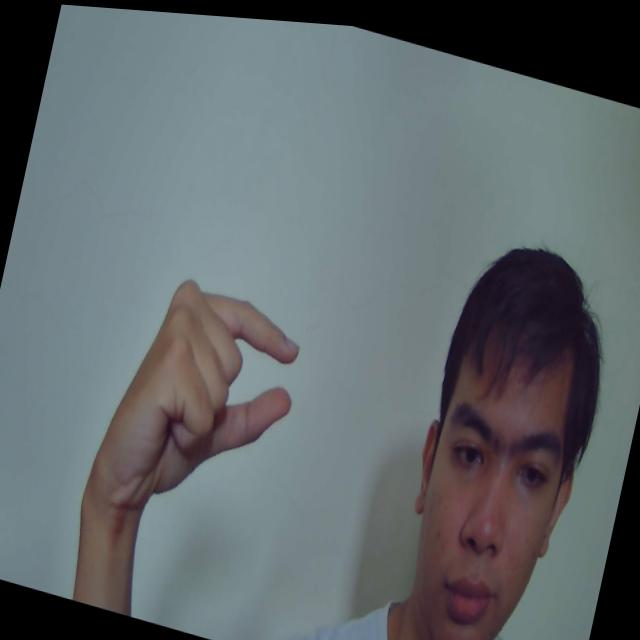G: (83, 256, 313, 542)
